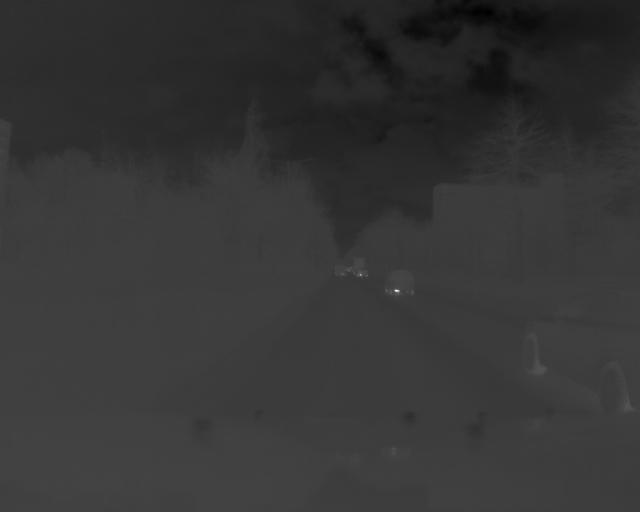car: (523, 275, 640, 413), (381, 265, 418, 300)
